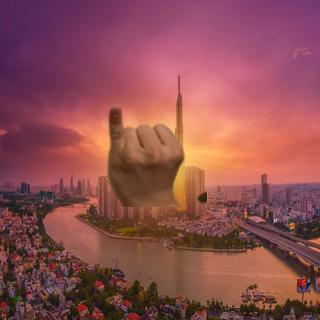FINE: (103, 101, 189, 199)
